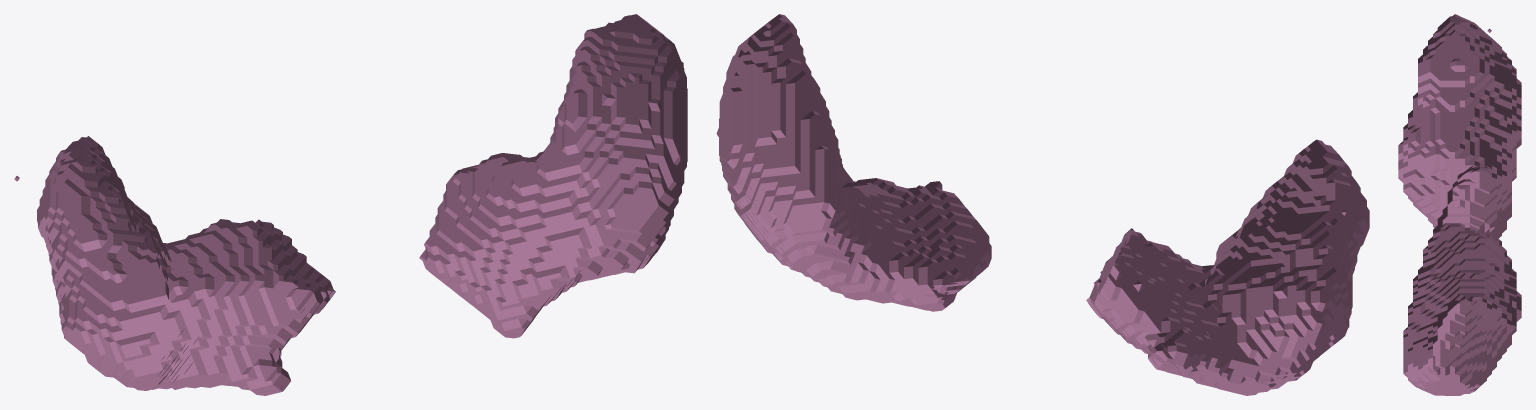
File: region_0021_CIL__central_nucleus_of_the_inferior_lobe_.glb
3 views of the same model, side by side, from view 1: azimuth 30°, elevation 25°; view 2: azimuth 150°, elevation 25°; view 3: azimuth 270°, elevation 25° (orthographic). The views are drawn at different scales.
Visible parts, largest first — view 1: world; view 2: world; view 3: world.
Boxes of the visible parts, x1,y1,x2,y2 form: world: (14,14,687,395); world: (716,14,1369,395); world: (1398,14,1521,395).
Bounding box in the file's own units: 0.904 × 0.376 × 0.2.
